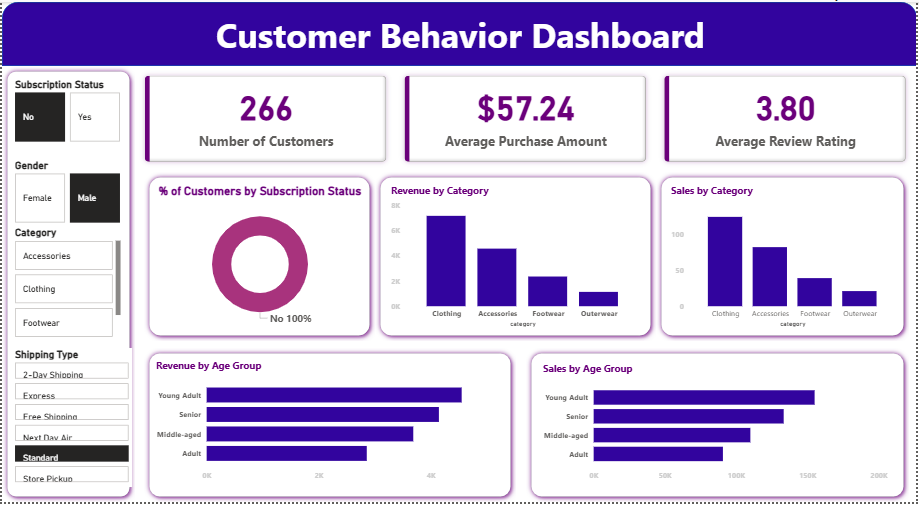

What the dashboard file says about the page in this screenshot:
{"tool":"powerbi","page":{"name":"Page 1","canvas":[1500,820],"ordinal":0},"visuals":[{"type":"cardVisual","fields":{"Data":["customer_behavior customer.Number of Customers","customer_behavior customer.Average Purchase Amount","customer_behavior customer.Average Review Rating"]},"box":[218.1,105,1282.5,173.8],"z":0},{"type":"shape","box":[0,0,1500.6,105],"z":1000},{"type":"textbox","box":[16.4,9.8,1471.1,95.1],"z":2000},{"type":"shape","box":[232.9,278.8,378.8,277.2],"z":3000},{"type":"donutChart","title":"% of Customers by Subscription Status","fields":{"Category":["customer_behavior customer.subscription_status"],"Y":["CountNonNull(customer_behavior customer.customer_id)"]},"box":[247.6,298.5,351,241.1],"z":4000},{"type":"shape","box":[1072.6,278.8,414.9,277.2],"z":5000},{"type":"shape","box":[611.7,278.8,460.8,277.2],"z":6000},{"type":"clusteredColumnChart","title":"Revenue by Category","fields":{"Y":["Sum(customer_behavior customer.purchase_amount)"],"Category":["customer_behavior customer.category"]},"box":[633,298.5,418.2,239.4],"z":7000},{"type":"clusteredColumnChart","title":"Sales by Category","fields":{"Y":["CountNonNull(customer_behavior customer.customer_id)"],"Category":["customer_behavior customer.category"]},"box":[1092.2,298.5,378.8,239.4],"z":8000},{"type":"shape","box":[0,105,218.1,715],"z":9000},{"type":"advancedSlicerVisual","title":"Subscription Status","fields":{"Values":["customer_behavior customer.subscription_status"]},"box":[16.4,124.6,183.7,109.9],"z":10000},{"type":"advancedSlicerVisual","title":"Gender","fields":{"Values":["customer_behavior customer.gender"]},"box":[16.4,257.5,183.7,109.9],"z":11000},{"type":"advancedSlicerVisual","title":"Category","fields":{"Values":["customer_behavior customer.category"]},"box":[16.4,367.4,183.7,188.6],"z":12000},{"type":"advancedSlicerVisual","title":"Shipping Type","fields":{"Values":["customer_behavior customer.shipping_type"]},"box":[16.4,567.4,196.8,228],"z":13000},{"type":"shape","box":[232.9,567.4,610.1,252.6],"z":14000},{"type":"clusteredBarChart","title":"Revenue by Age Group","fields":{"Y":["Sum(customer_behavior customer.purchase_amount)"],"Category":["customer_behavior customer.age_group"]},"box":[247.6,585.5,560.9,209.9],"z":15000},{"type":"shape","box":[859.4,567.4,628.1,252.6],"z":16000},{"type":"clusteredBarChart","title":"Sales by Age Group","fields":{"Y":["Sum(customer_behavior customer.customer_id)"],"Category":["customer_behavior customer.age_group"]},"box":[882.3,590.4,575.6,205],"z":17000}]}

Visuals, with their boxes in screenshot pixels (x1, y1, x2, y2), scaled from the page's 1500x820 canvas onto the 919x505 screenshot:
cardVisual - customer_behavior customer.Number of Customers x customer_behavior customer.Average Purchase Amount: BBox(134, 65, 918, 172)
shape: BBox(0, 0, 918, 65)
textbox: BBox(10, 6, 911, 65)
shape: BBox(143, 172, 375, 342)
"% of Customers by Subscription Status" donutChart: BBox(152, 184, 367, 332)
shape: BBox(657, 172, 911, 342)
shape: BBox(375, 172, 657, 342)
"Revenue by Category" clusteredColumnChart: BBox(388, 184, 644, 331)
"Sales by Category" clusteredColumnChart: BBox(669, 184, 901, 331)
shape: BBox(0, 65, 134, 504)
"Subscription Status" advancedSlicerVisual: BBox(10, 77, 123, 144)
"Gender" advancedSlicerVisual: BBox(10, 159, 123, 226)
"Category" advancedSlicerVisual: BBox(10, 226, 123, 342)
"Shipping Type" advancedSlicerVisual: BBox(10, 349, 131, 490)
shape: BBox(143, 349, 516, 504)
"Revenue by Age Group" clusteredBarChart: BBox(152, 361, 495, 490)
shape: BBox(527, 349, 911, 504)
"Sales by Age Group" clusteredBarChart: BBox(541, 364, 893, 490)
